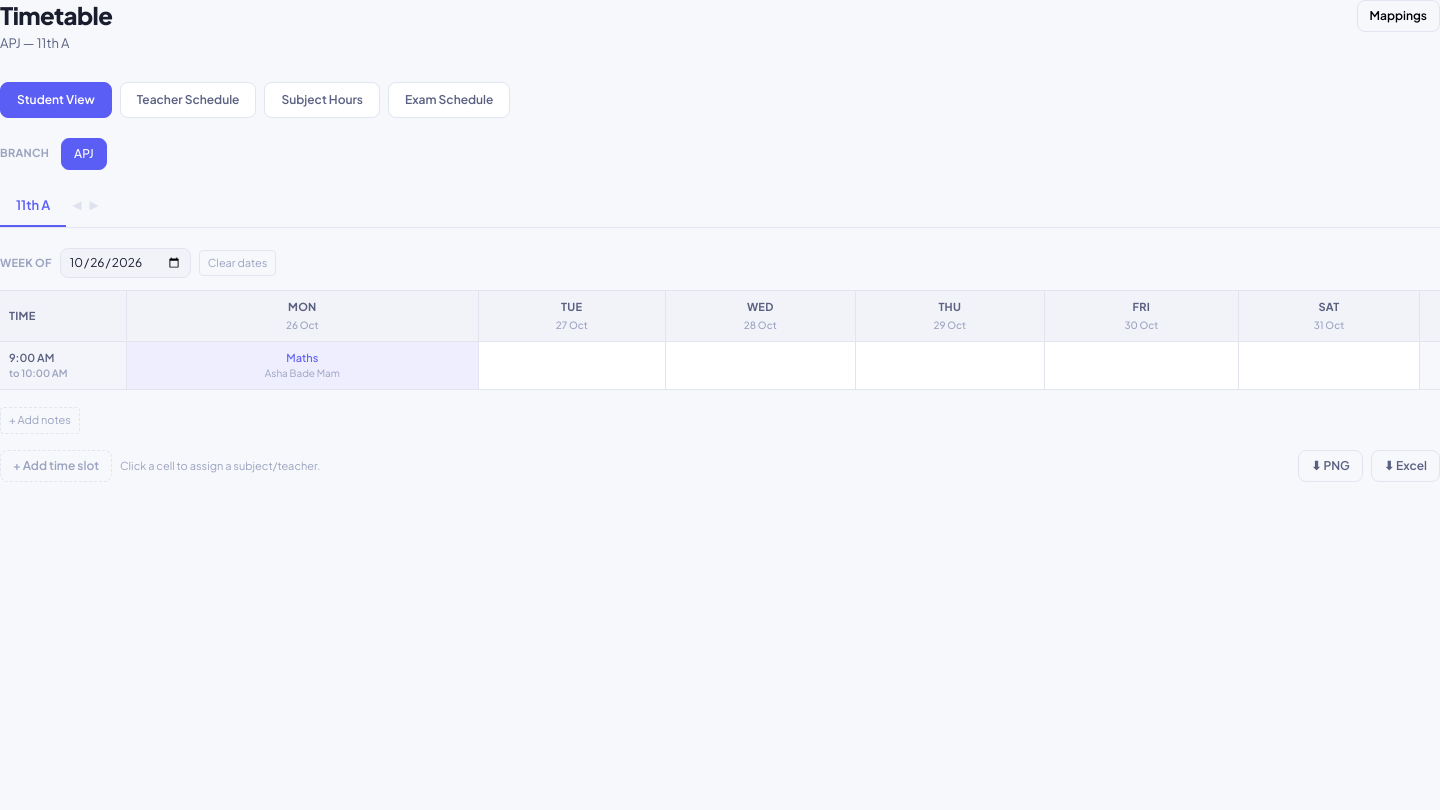
Test: TimetablePage — teacher with Edit timetable › opens the cell editor on a cell click
Click the text "Maths": coordinates (302, 357) [286, 351, 318, 364]
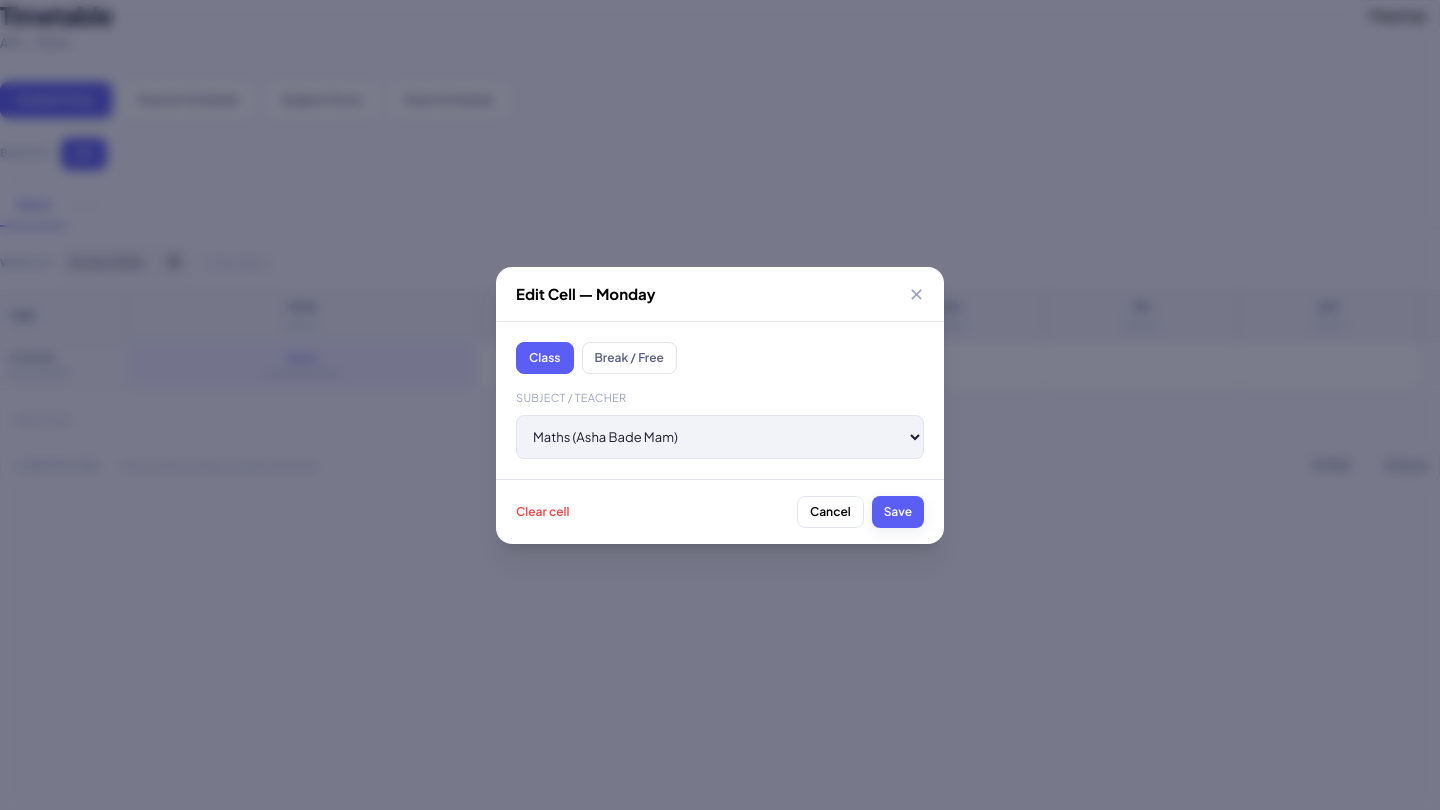
Check: the heading "Edit Cell — Monday" is shown, box [516, 282, 656, 305]
